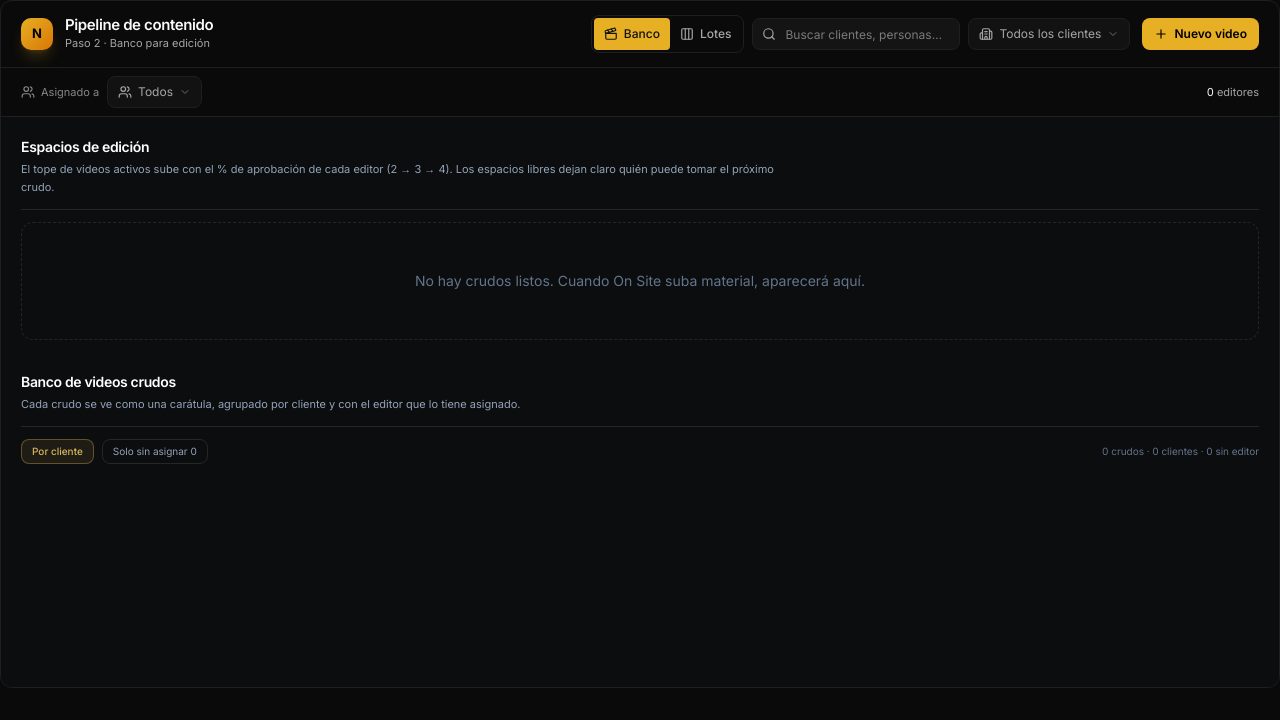
Test: ContentPipelineBoard — batch model › renders the 4 columns in Spanish with Video first
The width and height of the screenshot is (1280, 720).
What coordinates should you click on to do the following:
click the button "Lotes"
I would click on:
 (706, 34)
Its box is [670,18,742,50].
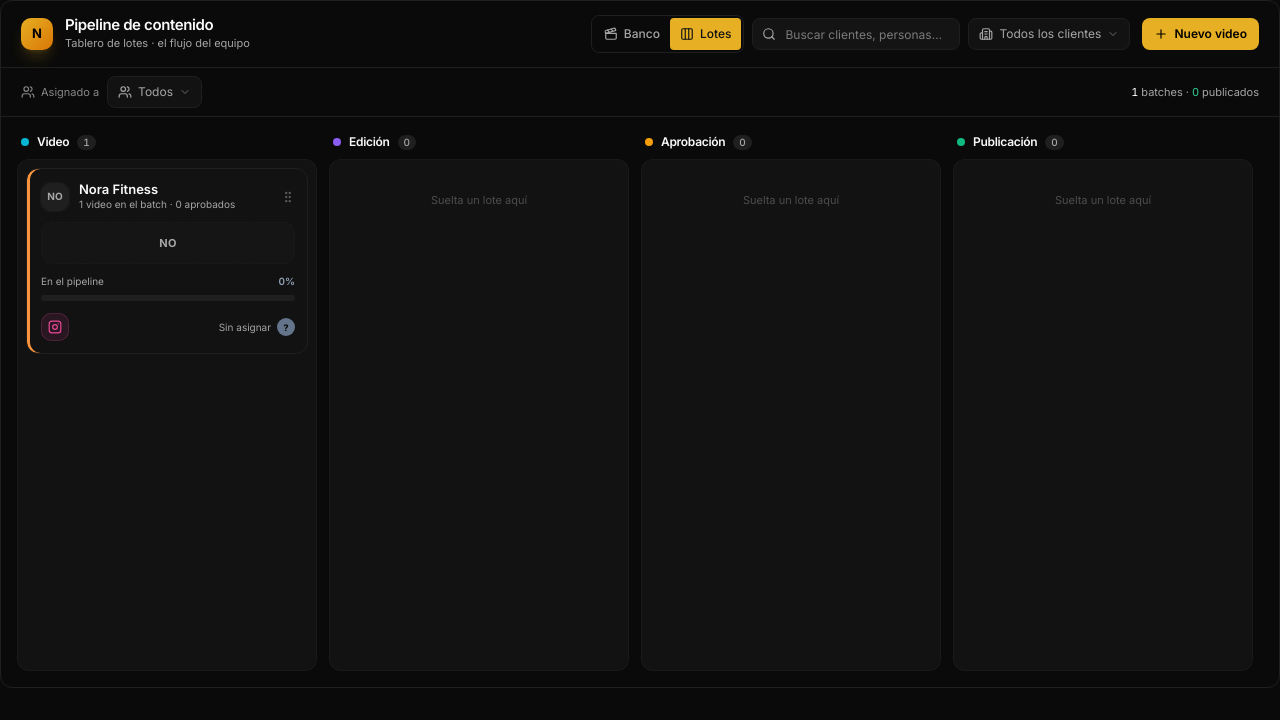
Check: the headings read "Video", "Edición", "Aprobación", "Publicación", in this order, box [37,133,69,151]; [349,133,390,151]; [661,133,725,151]; [973,133,1037,151]
